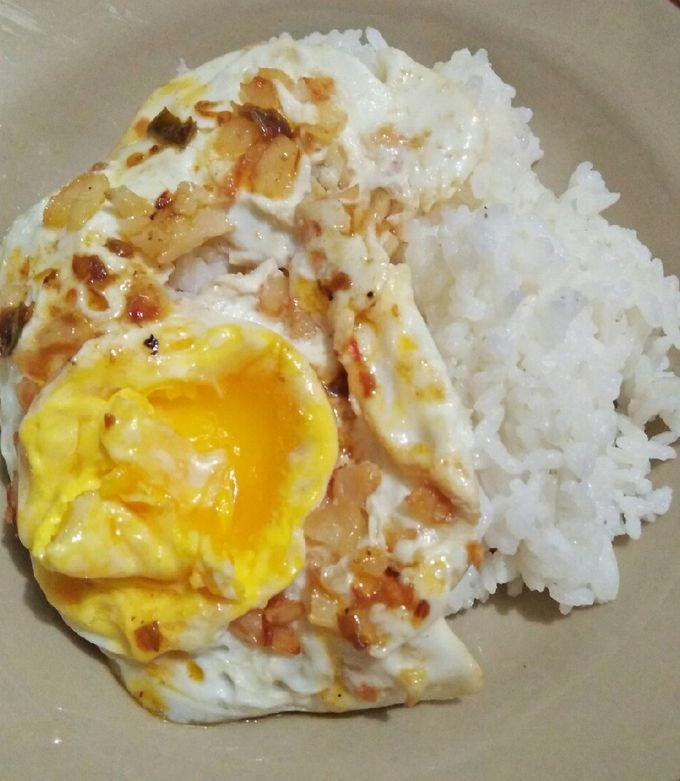makanan_berpati: (472, 217, 634, 442)
telur: (34, 219, 373, 641)
